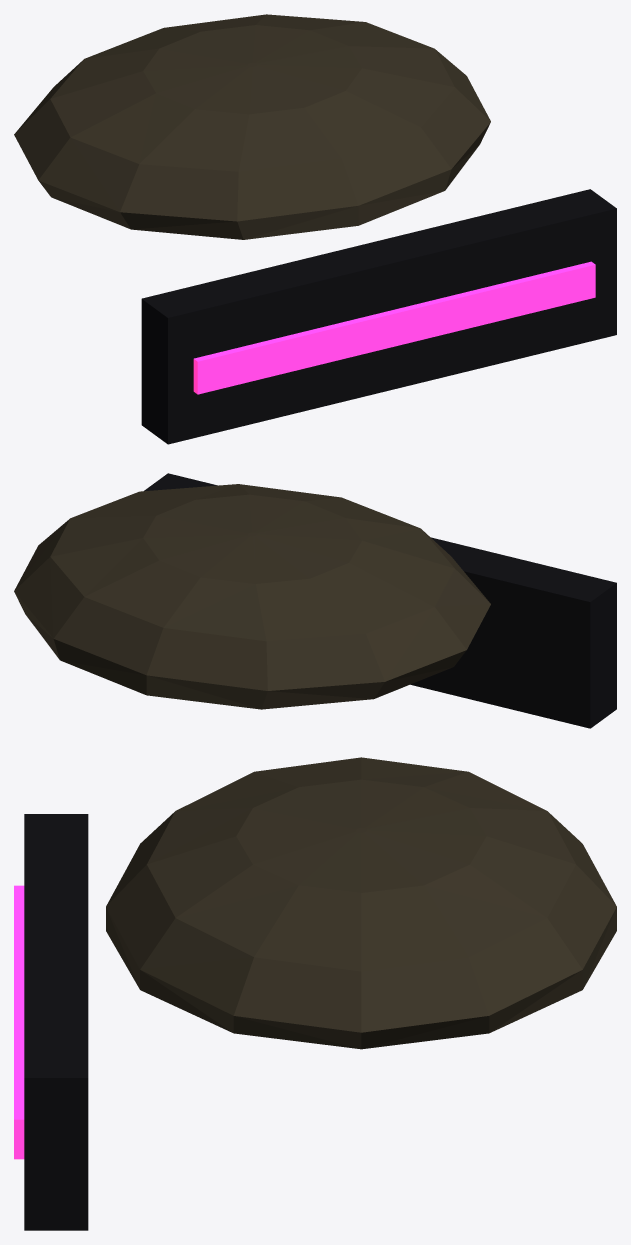
Rendered from visor.glb.
The picture shows the model from 3 angles, top to bottom: view 1: azimuth 30°, elevation 25°; view 2: azimuth 150°, elevation 25°; view 3: azimuth 270°, elevation 25°; orthographic projection. The views are drawn at different scales.
Visible parts, largest first — view 1: Cyber Visor.002; view 2: Cyber Visor.002; view 3: Cyber Visor.002.
Part boxes in pixels (<box>): Cyber Visor.002: <box>14,14,616,444</box>; Cyber Visor.002: <box>14,473,616,728</box>; Cyber Visor.002: <box>14,757,616,1230</box>.
Bounding box in the file's own units: 0.557 × 0.264 × 0.5377.
